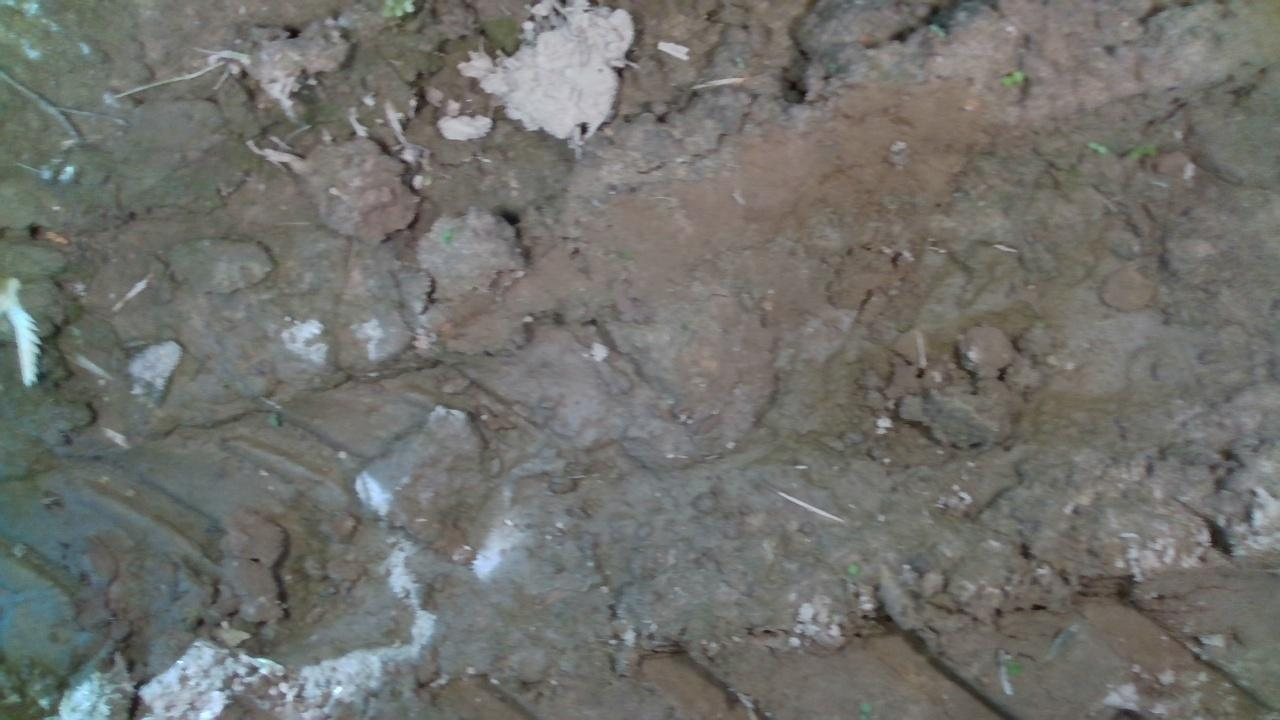weed: (997, 68, 1024, 84), (1084, 140, 1109, 154)
